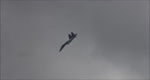maybay_muctieu: (58, 32, 77, 52)
